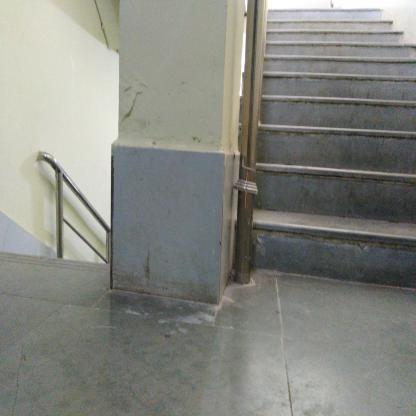stairs: (274, 5, 386, 288)
